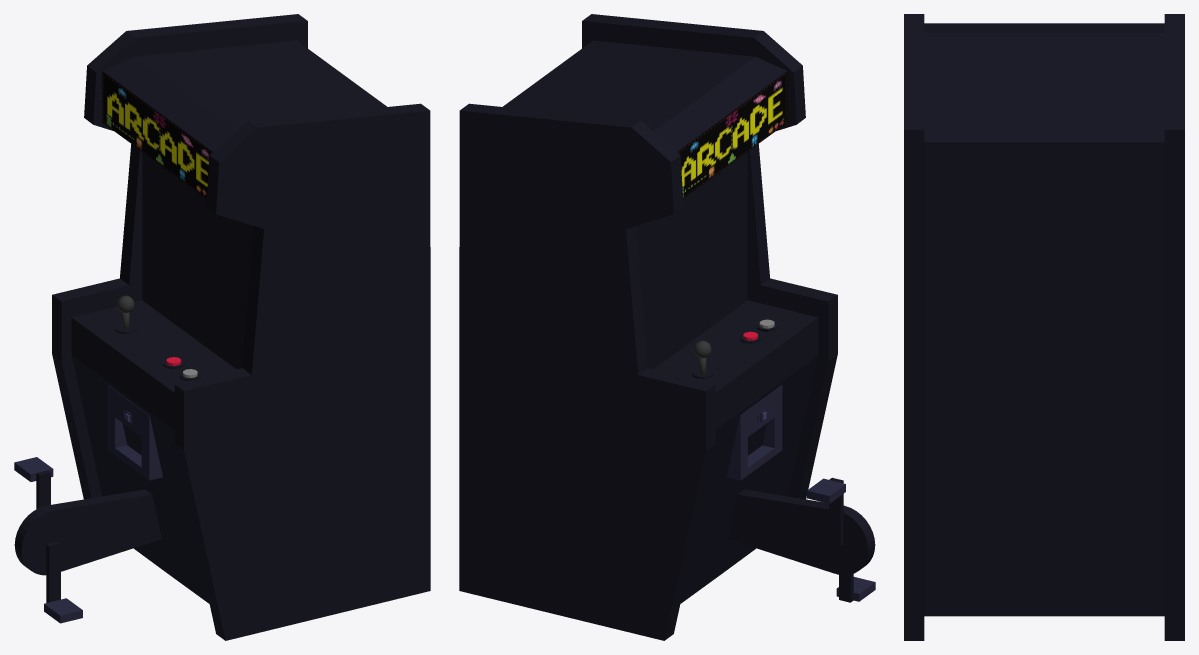
Rendered from arcade_2.0.glb.
3 renders of one model, left to right at view 1: azimuth 30°, elevation 25°; view 2: azimuth 150°, elevation 25°; view 3: azimuth 270°, elevation 25°, orthographic. The views are drawn at different scales.
Parts seen in each view (by area): view 1: Corpus, pedalMashine, Cylinder, coinMashine, pedalLeft, pedalRight; view 2: Corpus, pedalMashine, Cylinder, coinMashine, pedalRight; view 3: Corpus.
Part boxes in pixels (bbox=[...]): Corpus: bbox=[52, 14, 430, 640]; pedalMashine: bbox=[49, 489, 161, 571]; Cylinder: bbox=[14, 470, 60, 602]; coinMashine: bbox=[107, 385, 162, 480]; pedalLeft: bbox=[44, 598, 82, 623]; pedalRight: bbox=[14, 457, 53, 481]; Corpus: bbox=[459, 14, 837, 640]; pedalMashine: bbox=[728, 489, 834, 573]; Cylinder: bbox=[829, 477, 875, 602]; coinMashine: bbox=[727, 385, 782, 480]; pedalRight: bbox=[807, 478, 845, 503]; Corpus: bbox=[904, 14, 1184, 640].
Bounding box in the file's own units: 73.31 × 102 × 48.37.
Materials: 8 (1 with a texture image).
